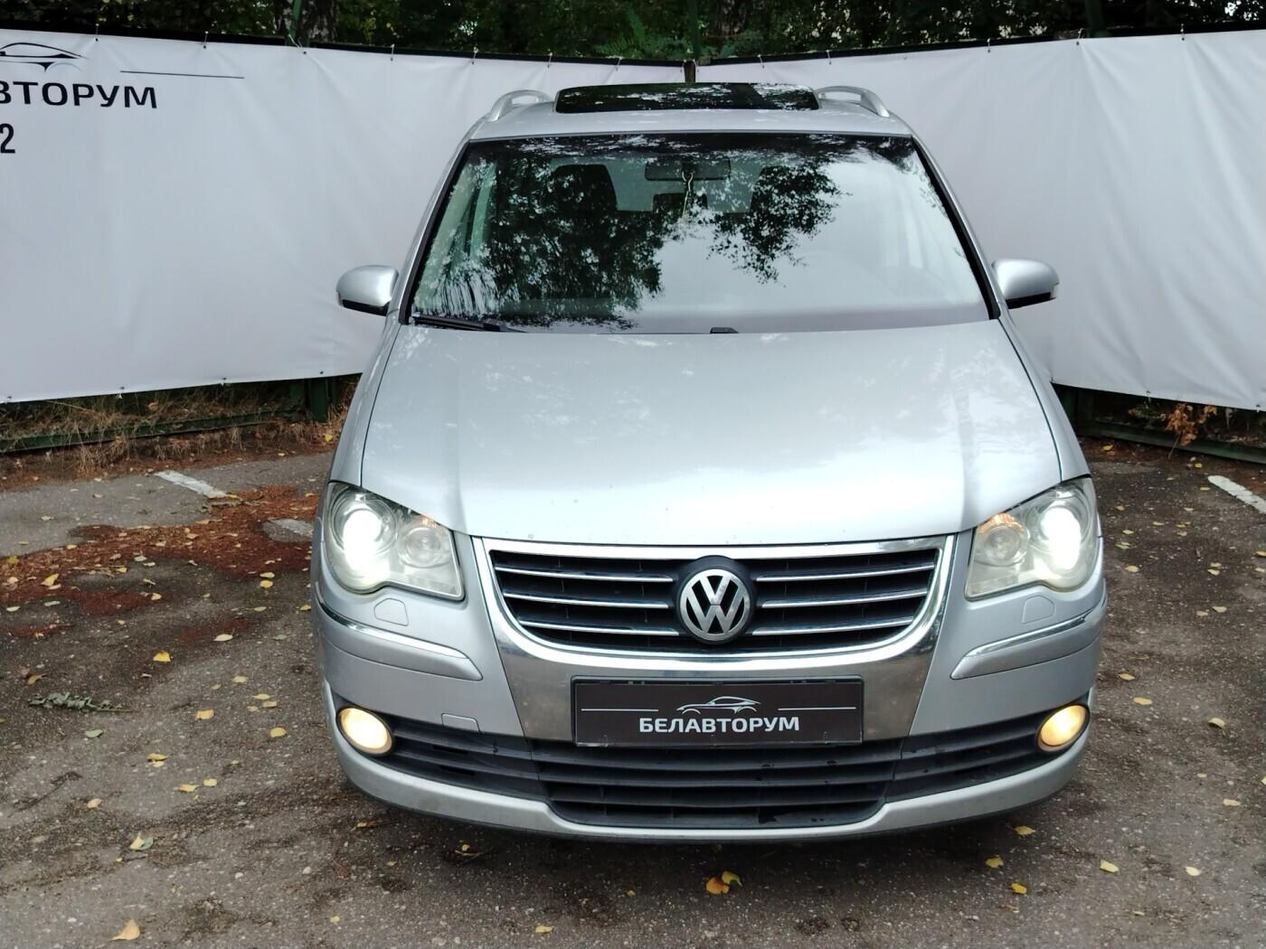Touran_2006-2010: (302, 84, 1107, 853)
